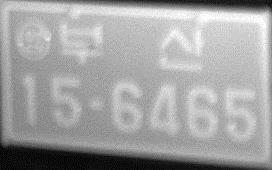-: (86, 97, 106, 115)
1: (18, 72, 44, 129)
4: (147, 83, 181, 141)
5: (223, 87, 259, 145), (50, 74, 83, 128)
6: (184, 84, 221, 142), (110, 79, 145, 137)
부산_D: (57, 20, 205, 75)
영: (12, 16, 54, 63)
